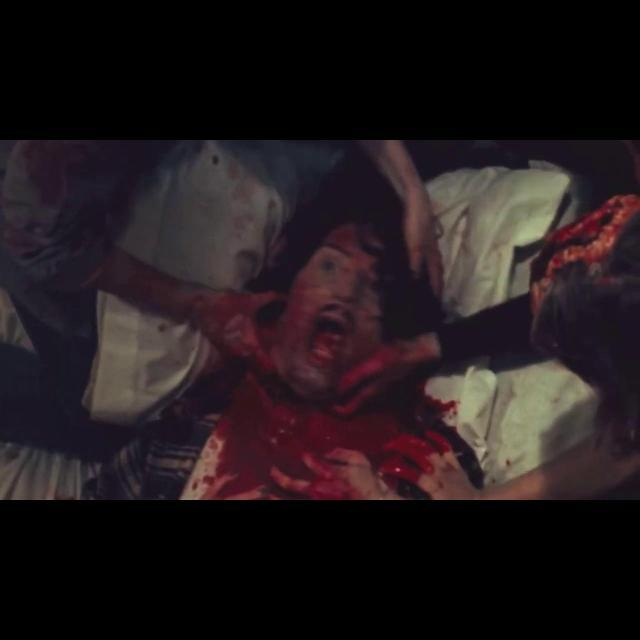blood: (182, 206, 483, 500), (534, 195, 640, 298)
